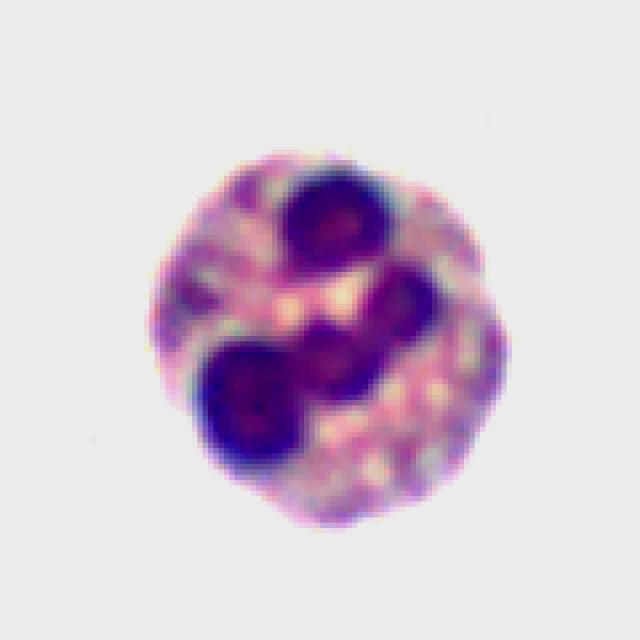WBC: (128, 133, 528, 560)
